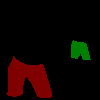shorts: (6, 56, 52, 98), (71, 40, 90, 60)
